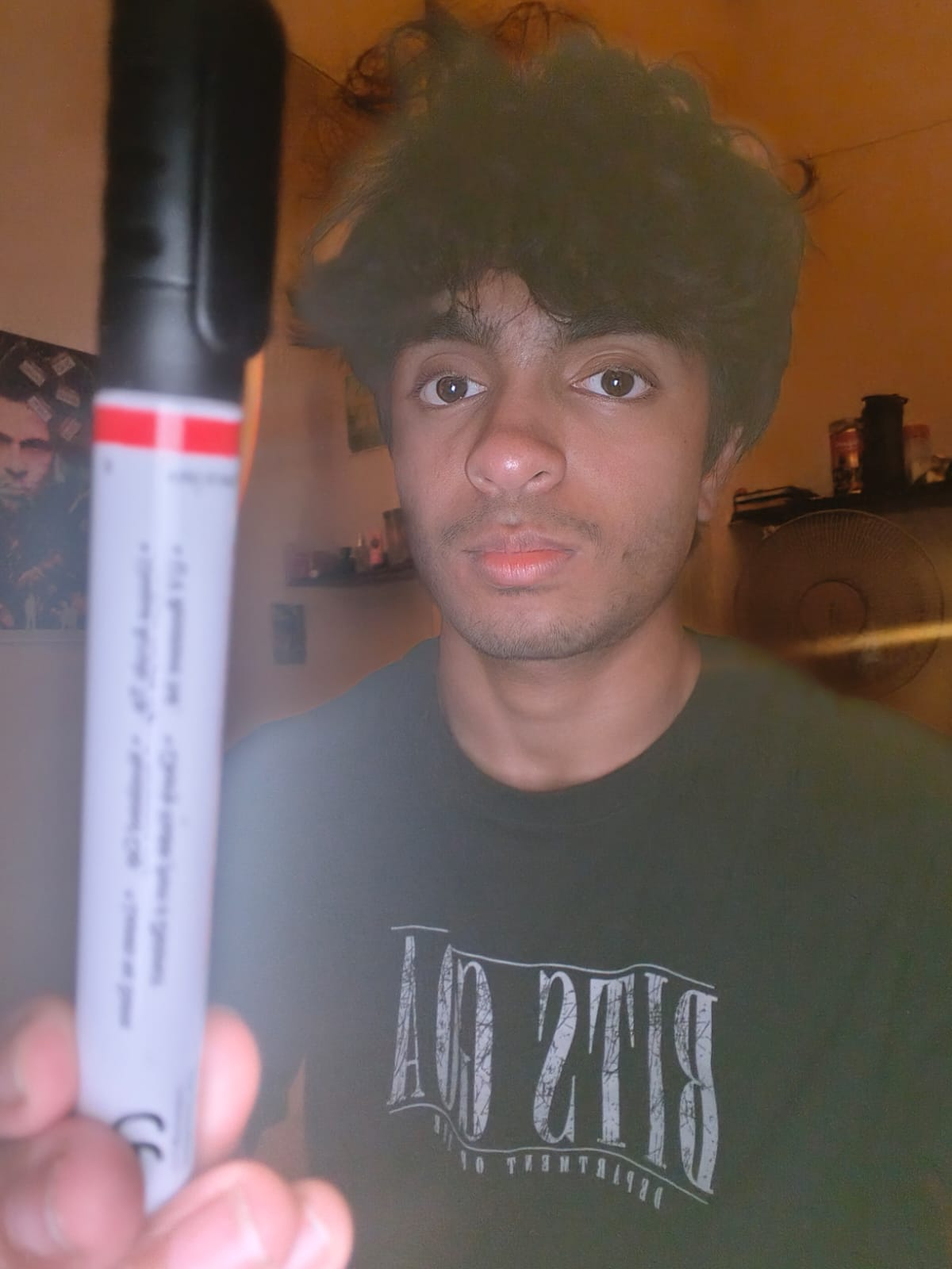case: (48, 35, 309, 1235)
